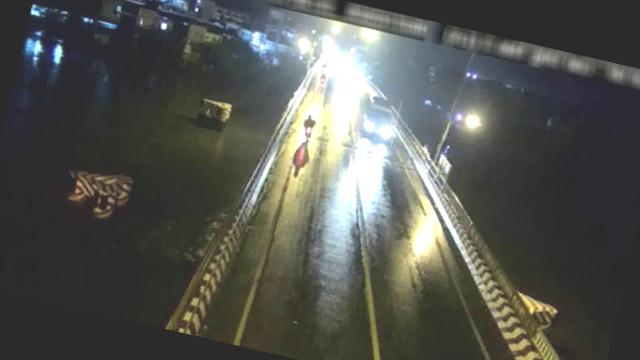Bike: (298, 112, 320, 144)
Truck: (348, 90, 402, 148)
